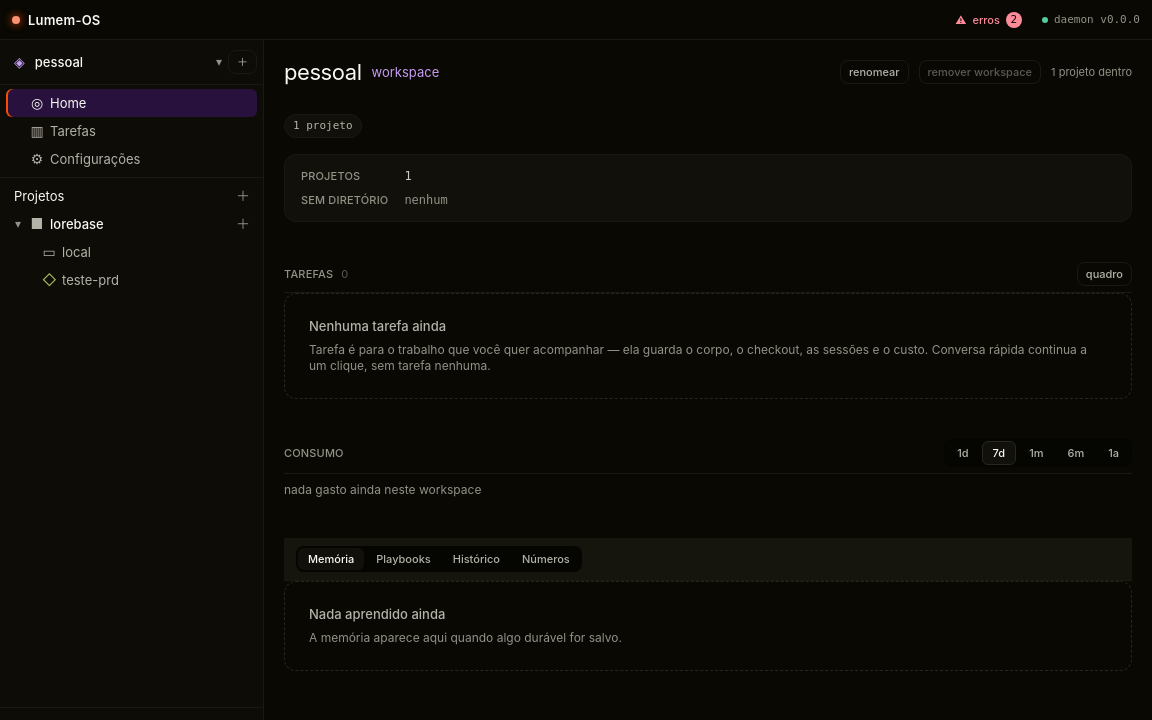
o caminho de volta (W7, T8) › trocar de workspace limpa o checkout selecionado
Step 1. Click the button "■ lorebase" → (128,224), box [26,210,231,238]
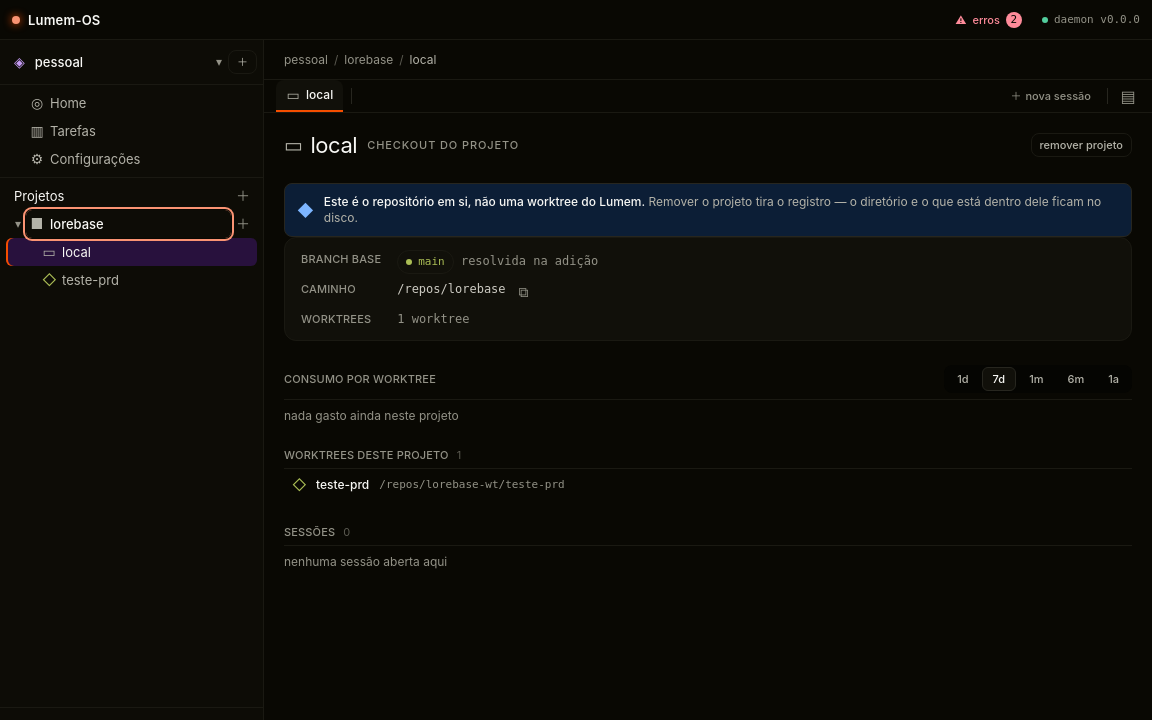
Expected: the heading "▭ local" is shown, [284,131,357,159]
Step 2. Select "trabalho" in the dropdown named "Workspace" → (122,62), box [31,46,214,78]
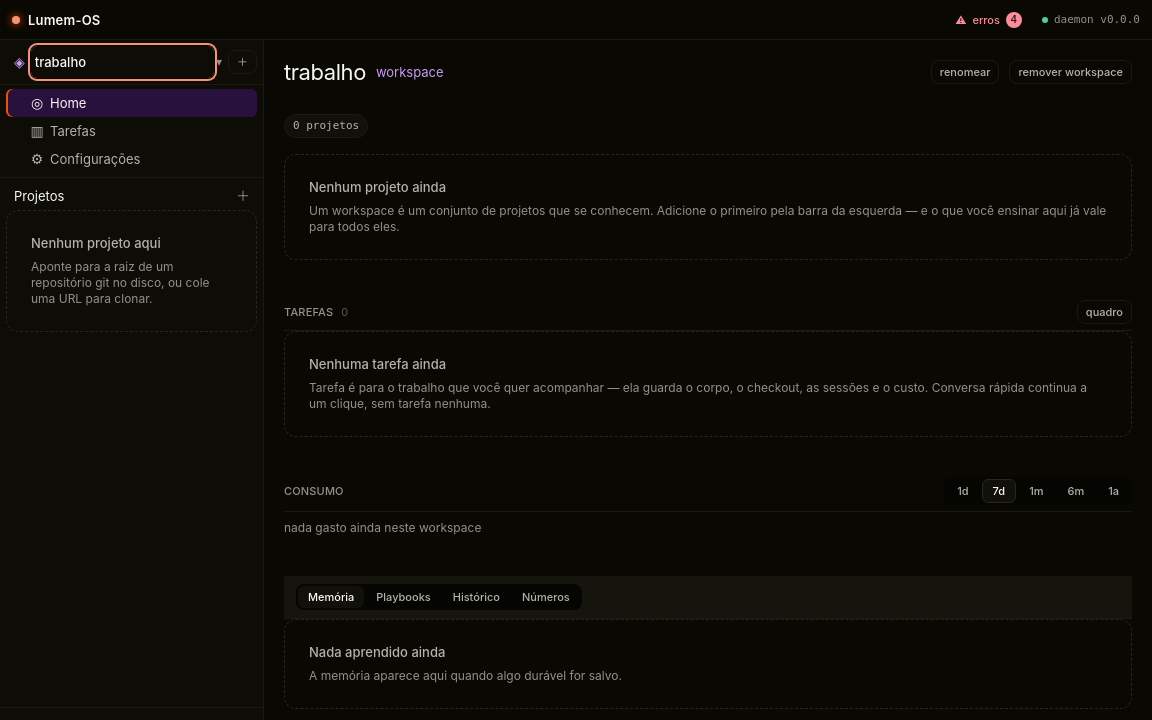
Expected: the heading "trabalho" is shown, [284,58,366,86]
Expected: the button "local" is gone
